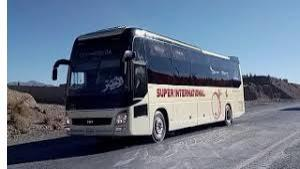bus: (53, 27, 246, 143)
